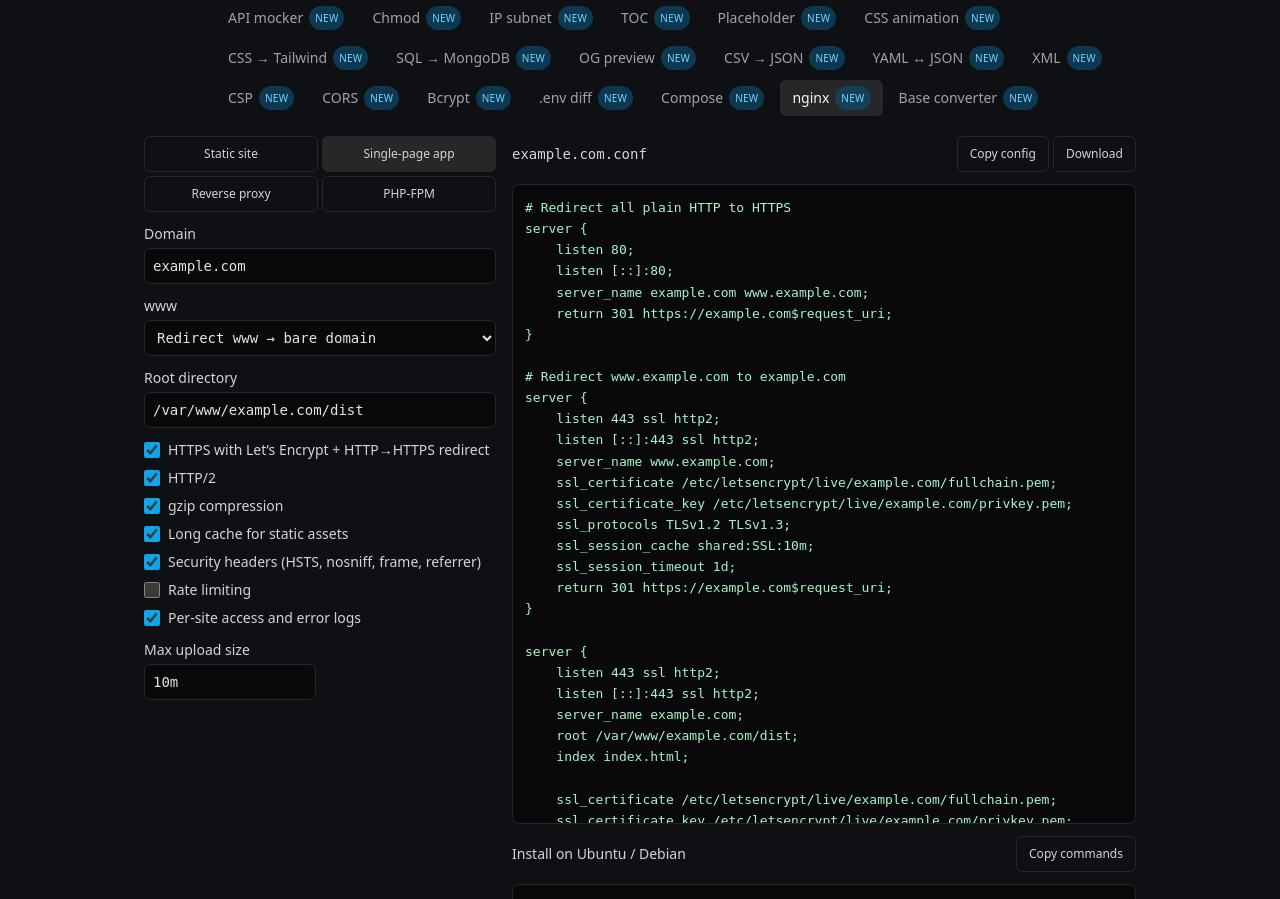
Test: NginxPage › drops TLS when HTTPS is off
The width and height of the screenshot is (1280, 899).
(page scrolled)
Click the checkbox with test id "nginx-https" at (152, 450), box 144,442 -> 160,458
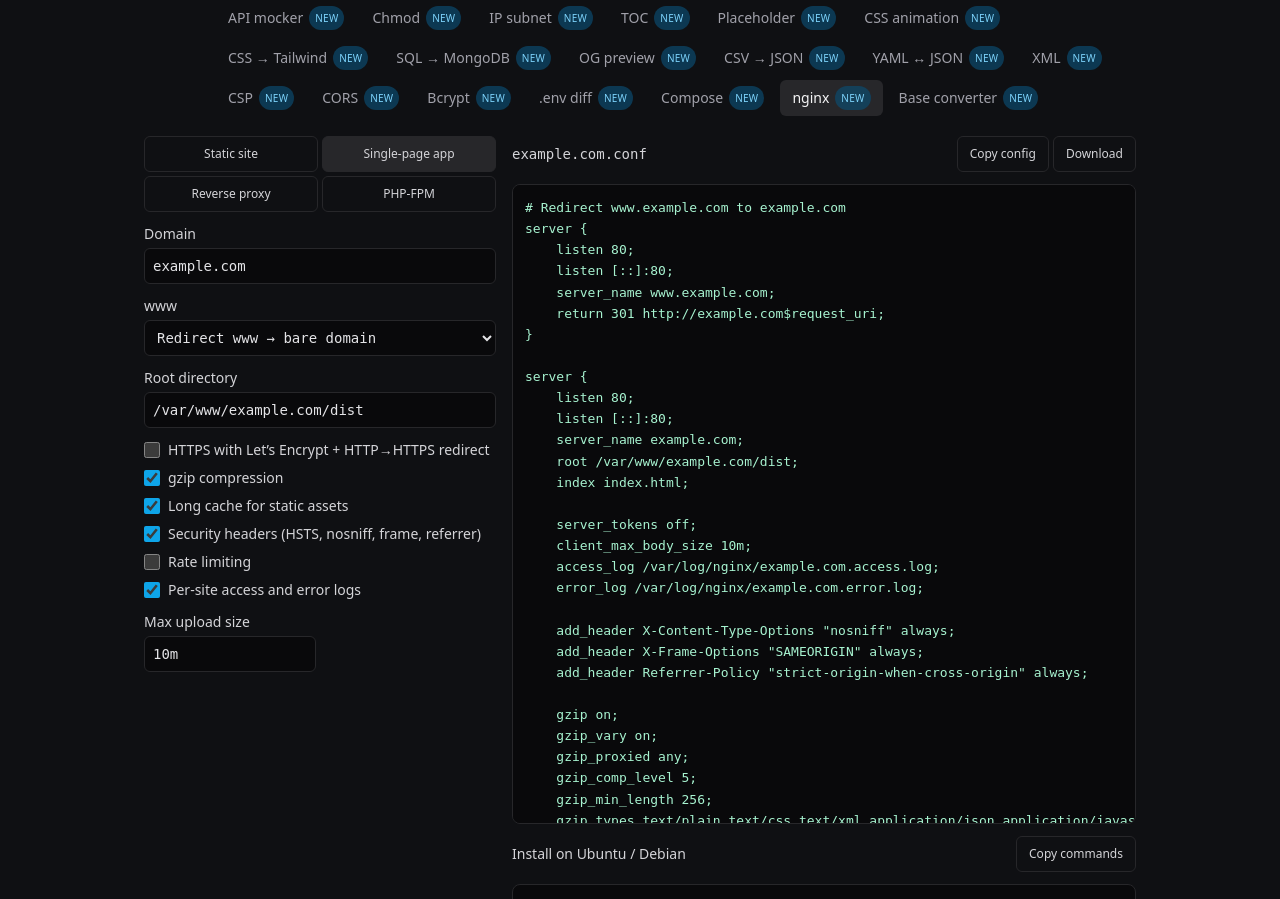
Expected: the text with test id "nginx-out" no longer shows "ssl_certificate"
